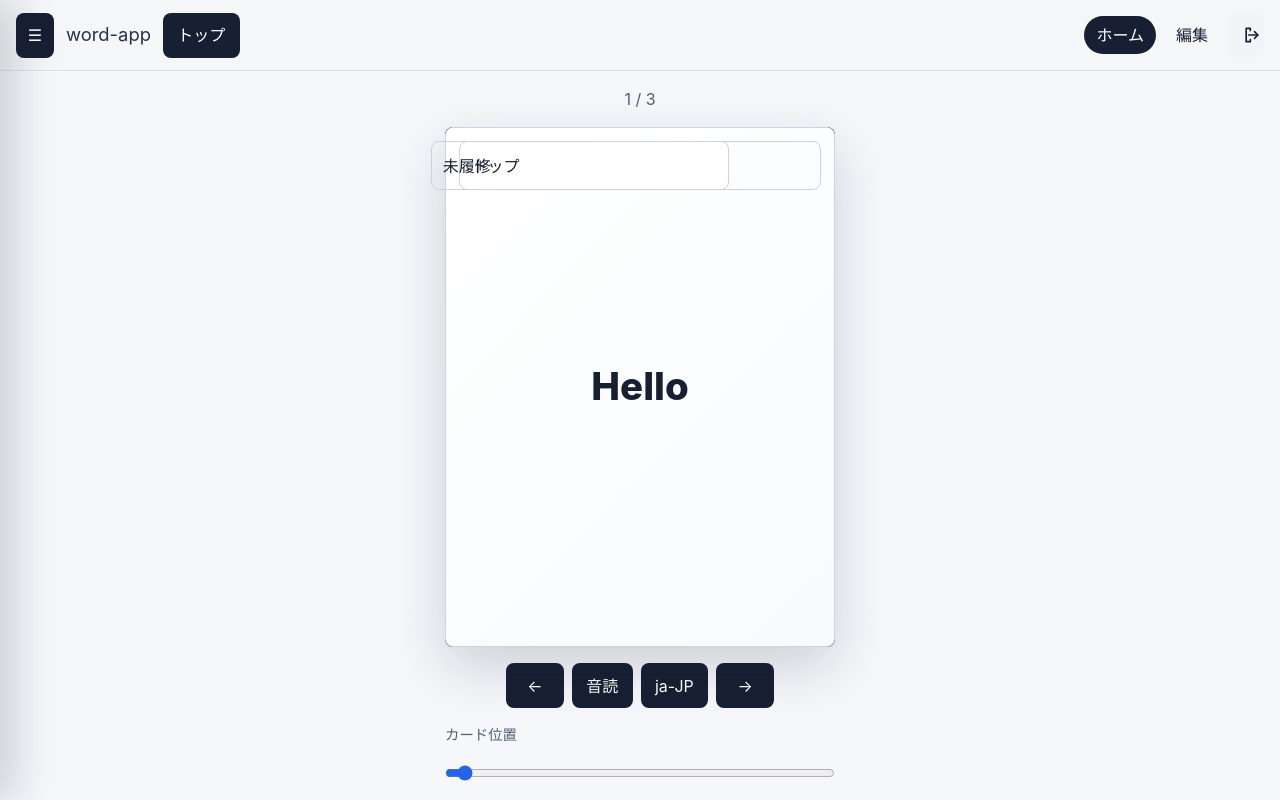
Test: App › opens the study sidebar from the header button
Click the button named "学習設定を開く" at (35, 35), box [16,13,54,58]
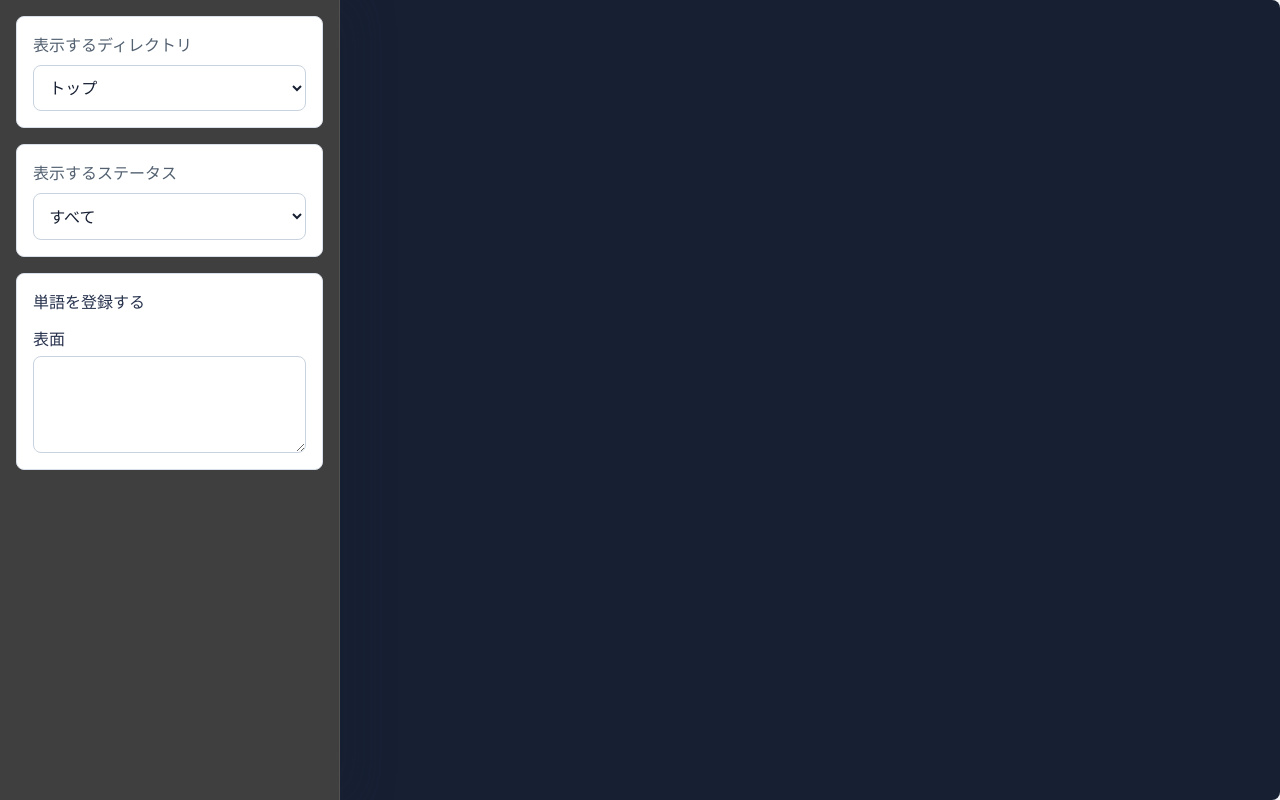
Expected: the button named "学習設定を開く" is expanded, [16,13,54,58]
